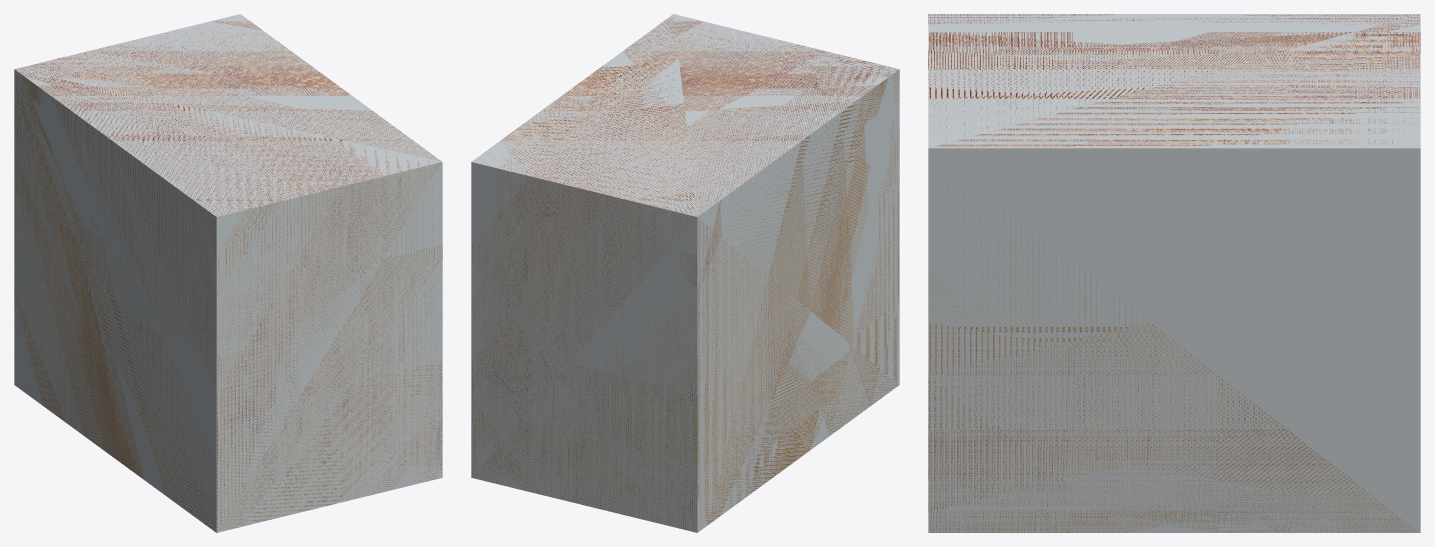
Rendered from ramin.glb.
3 views of the same model, side by side, from view 1: azimuth 30°, elevation 25°; view 2: azimuth 150°, elevation 25°; view 3: azimuth 270°, elevation 25° (orthographic). The views are drawn at different scales.
Parts seen in each view (by area): view 1: BackSide, FrontSide; view 2: BackSide, FrontSide; view 3: BackSide, FrontSide.
Part boxes in pixels (bbox=[...]): BackSide: bbox=[14, 14, 442, 532]; FrontSide: bbox=[14, 20, 442, 532]; BackSide: bbox=[471, 14, 899, 532]; FrontSide: bbox=[471, 17, 899, 531]; BackSide: bbox=[928, 14, 1420, 532]; FrontSide: bbox=[928, 14, 1420, 532].
Bounding box in the file's own units: 2.25 × 3 × 3.48.
Materials: 4 (3 with a texture image).
